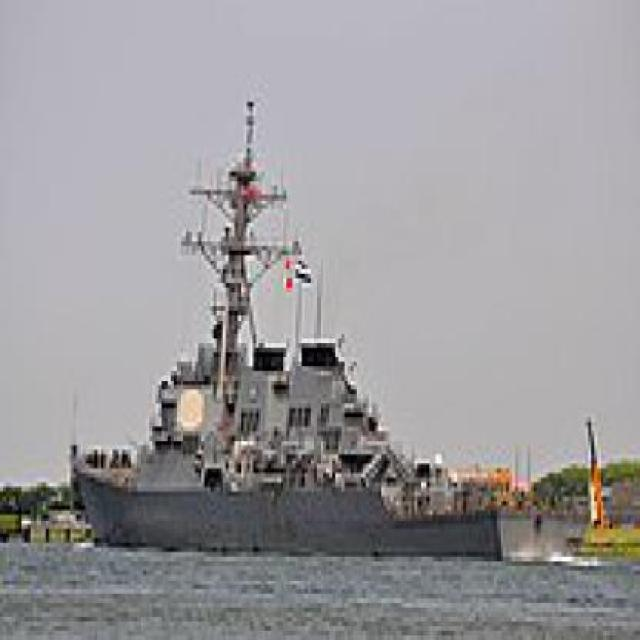warship2: (59, 93, 599, 586)
